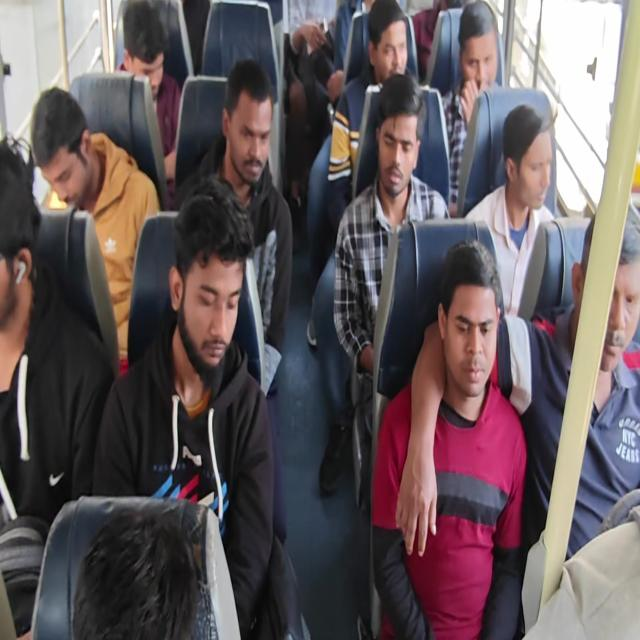person: (162, 210, 249, 378), (85, 512, 197, 640), (583, 219, 639, 403), (437, 282, 498, 406), (31, 92, 99, 201), (221, 71, 268, 187), (0, 148, 30, 329), (451, 9, 505, 108), (505, 110, 557, 212), (116, 10, 171, 100), (368, 7, 417, 100), (376, 99, 418, 197)
